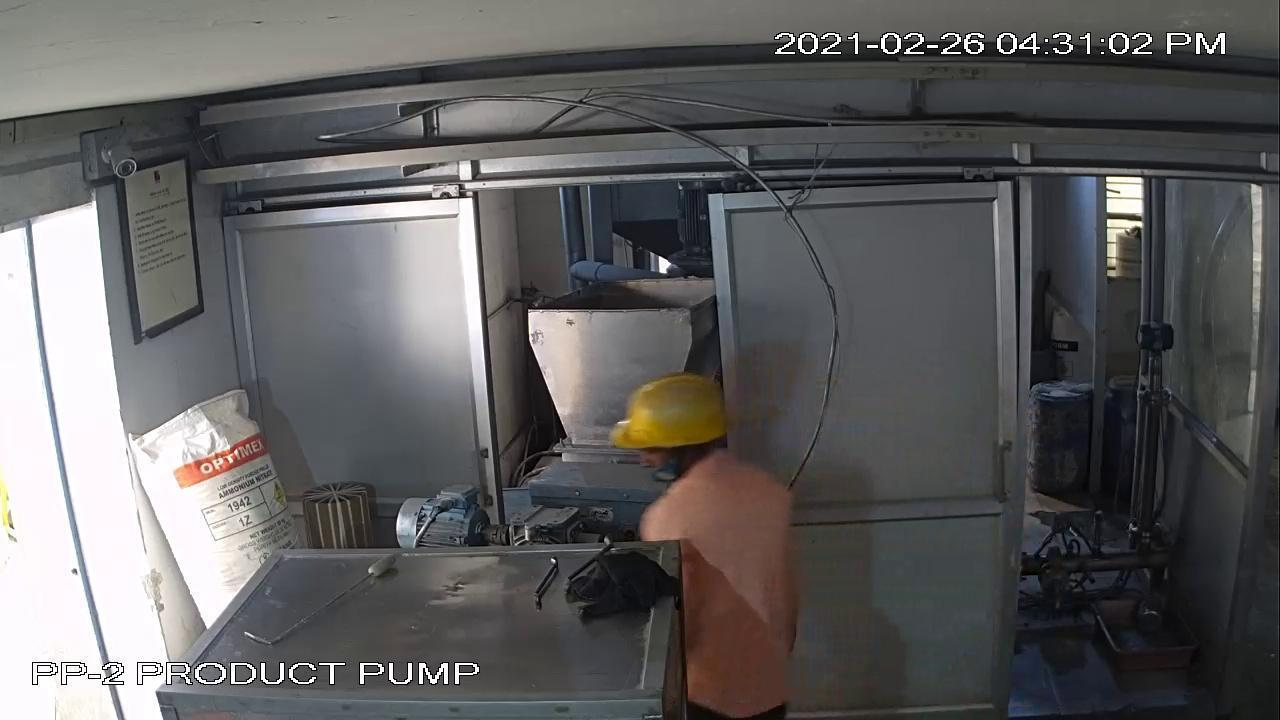helmet: (590, 363, 762, 455)
